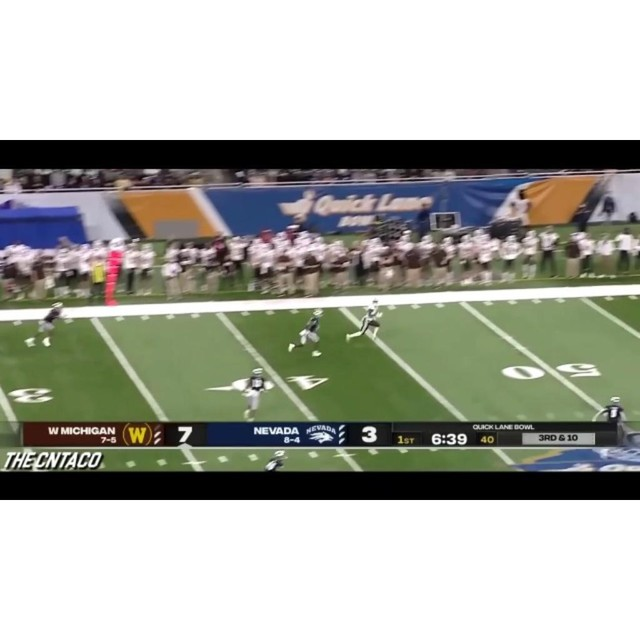american-football-player: (24, 300, 65, 348), (238, 367, 273, 421), (288, 308, 325, 358), (345, 297, 382, 344)
